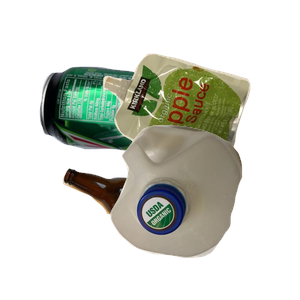glass: (60, 166, 241, 300)
metal: (37, 64, 245, 214)
plastic: (108, 123, 300, 300)
trash: (100, 51, 300, 214)
